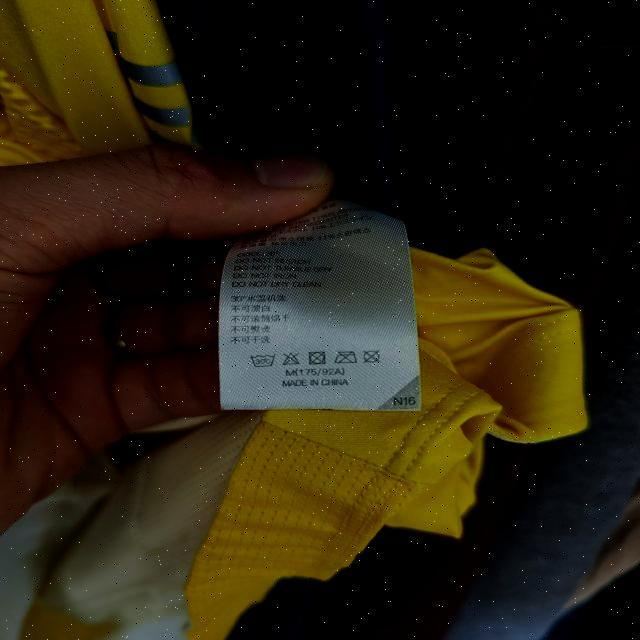30C: (249, 351, 277, 370)
DN_bleach: (282, 351, 303, 366)
DN_dry_clean: (362, 348, 383, 365)
DN_iron: (332, 348, 358, 366)
DN_tumble_dry: (308, 350, 328, 367)
